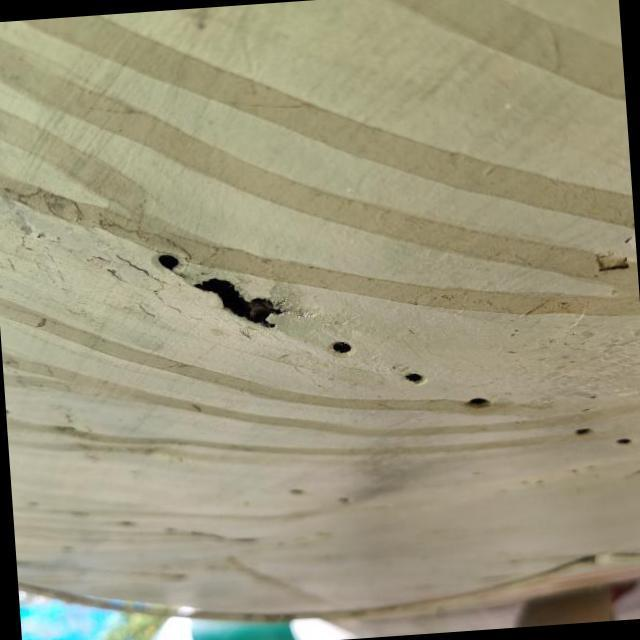Rupture: (181, 250, 308, 359)
